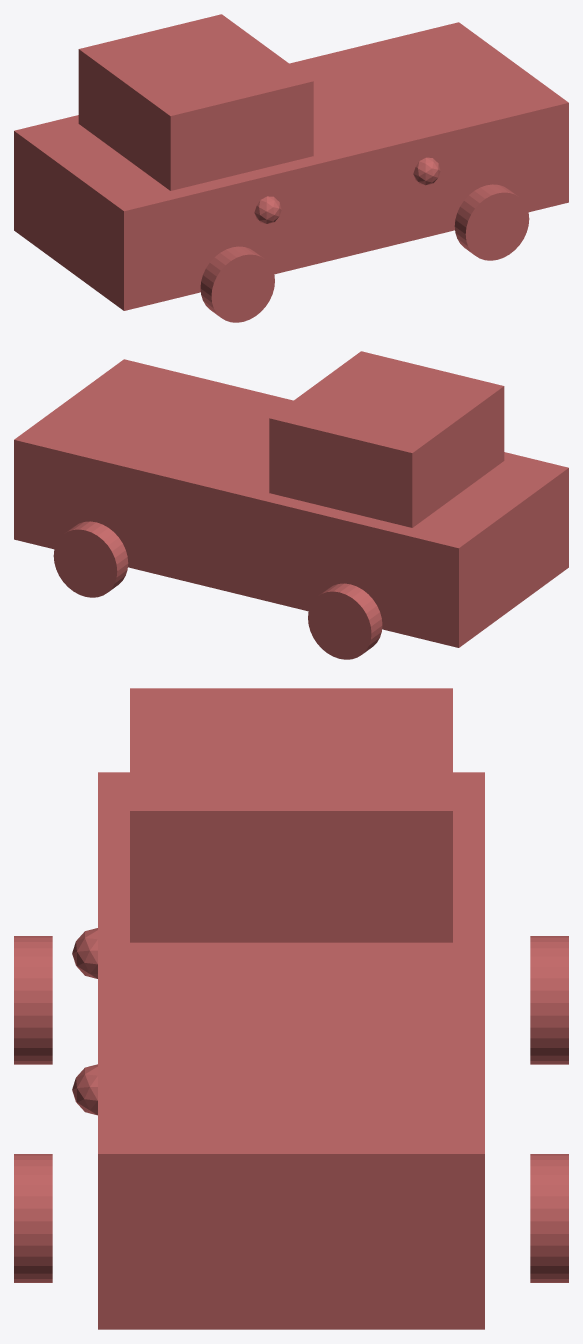
Rendered from zovix_ultimate_ae08bcfd.glb.
3 renders of one model, top to bottom at view 1: azimuth 30°, elevation 25°; view 2: azimuth 150°, elevation 25°; view 3: azimuth 270°, elevation 25°, orthographic. The views are drawn at different scales.
Parts seen in each view (by area): view 1: world; view 2: world; view 3: world.
Boxes of the visible parts, x1,y1,x2,y2 form: world: (14,14,568,322); world: (14,351,568,659); world: (14,688,568,1329).
Size of the model in its own units: 1.4 by 0.575 by 0.86.
